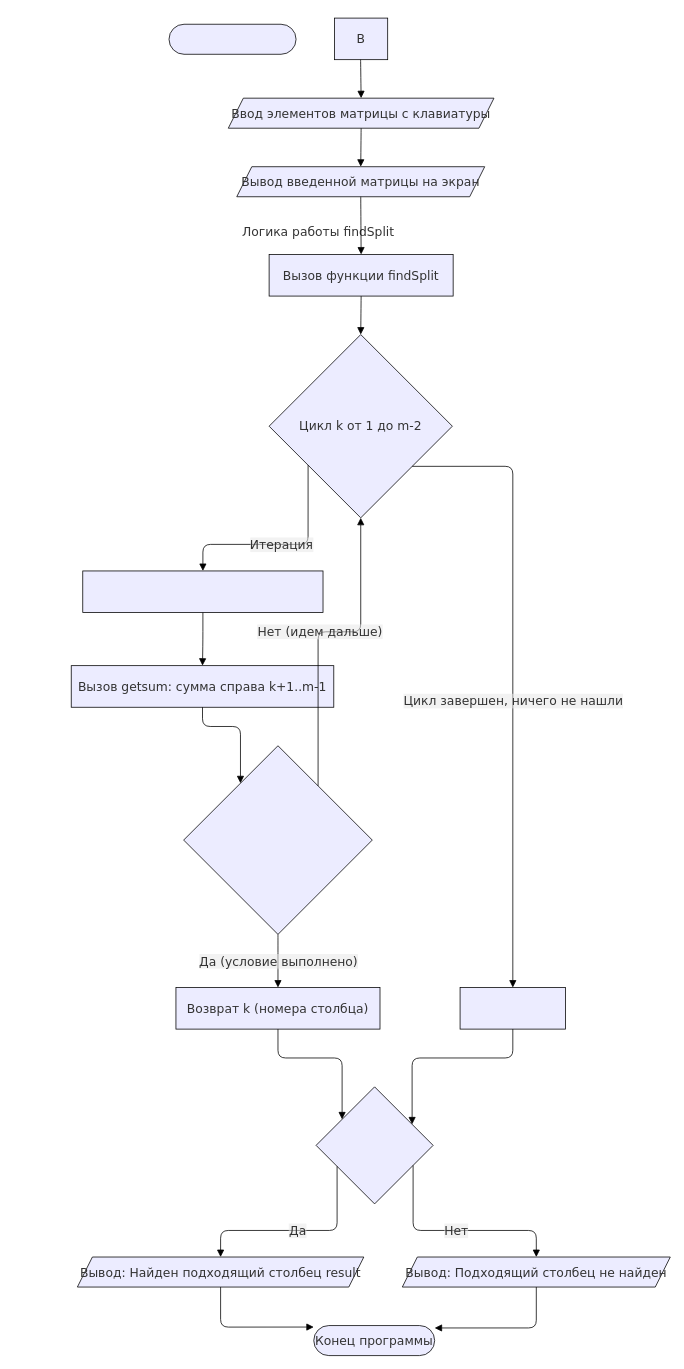
The diagram is 684 pixels wide and 1369 high, and some of its shapes have lost their labels. Here are the shapes that lost their labels. From the top down, the centre of each, then its label:
At point 232,38: "Начало программы".
At point 202,591: "Вызов getsum: сумма слева 0..k-1".
At point 277,839: "leftSum > rightSum?".
At point 512,1008: "Возврат -1".
At point 374,1145: "result != -1?".
